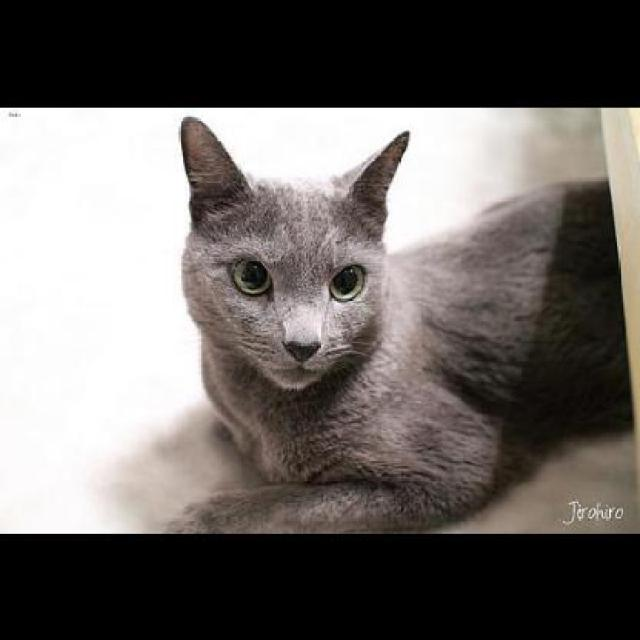unauthorized: (163, 114, 632, 534)
